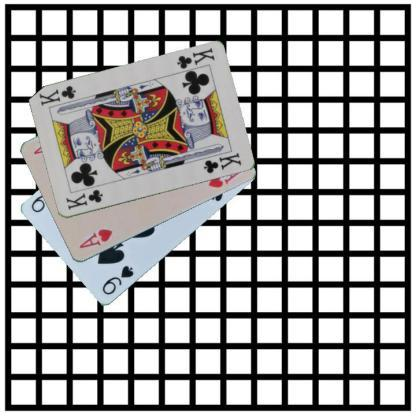9s: (100, 263, 136, 297)
Ah: (76, 226, 114, 250)
Kc: (63, 187, 104, 212), (174, 46, 216, 70)
